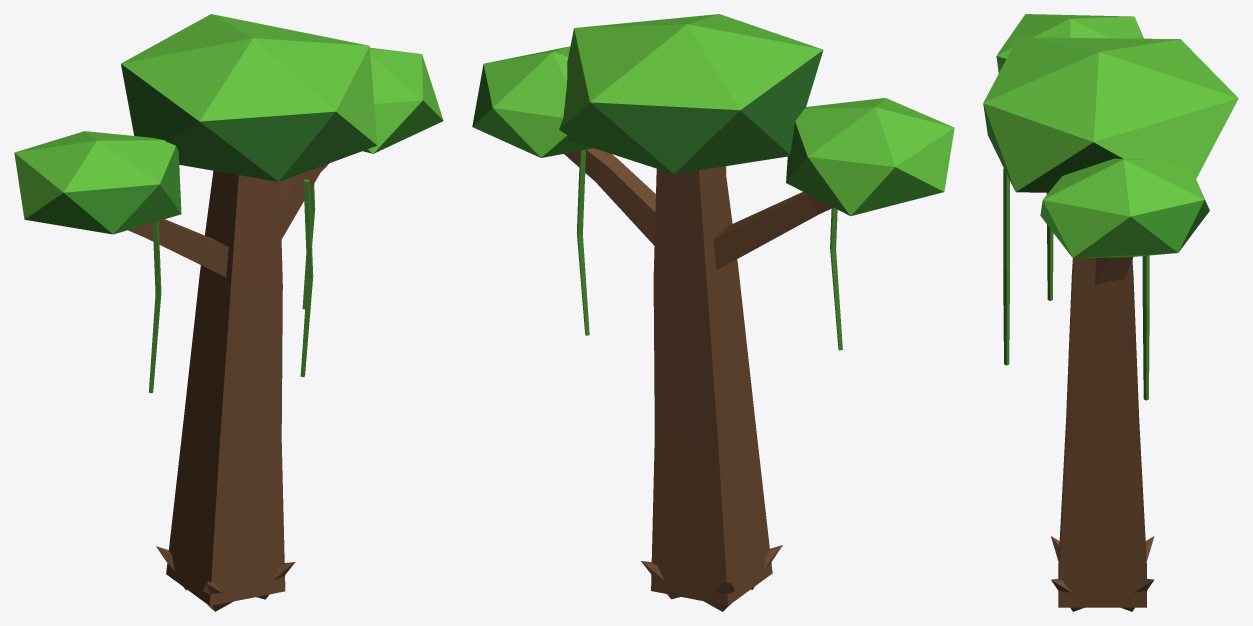
Rendered from JungleTree.fbx.
The picture shows the model from 3 angles, left to right: view 1: azimuth 30°, elevation 25°; view 2: azimuth 150°, elevation 25°; view 3: azimuth 270°, elevation 25°; orthographic projection.
Visible parts, largest first — view 1: JungleTree; view 2: JungleTree; view 3: JungleTree.
Boxes of the visible parts, bbox=[...] form: JungleTree: bbox=[14, 14, 443, 611]; JungleTree: bbox=[472, 14, 954, 611]; JungleTree: bbox=[983, 14, 1238, 611].
Bounding box in the file's own units: 11.41 × 14.17 × 5.86.
1 material, 1 textured.
